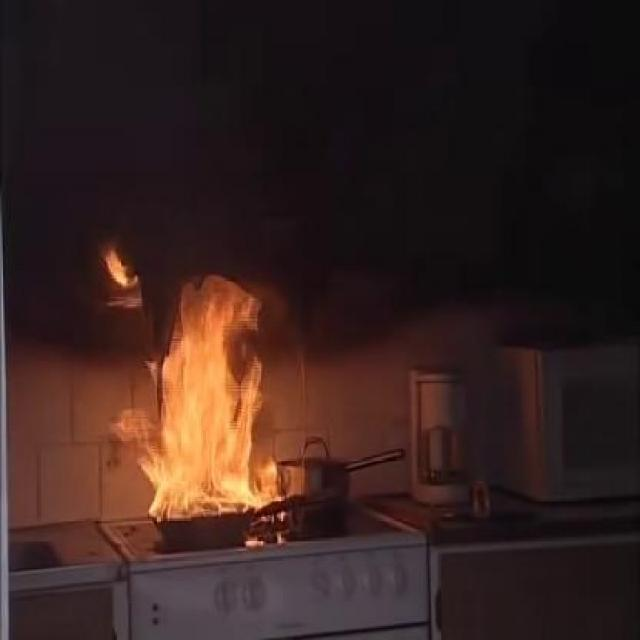fire: (141, 284, 270, 502)
